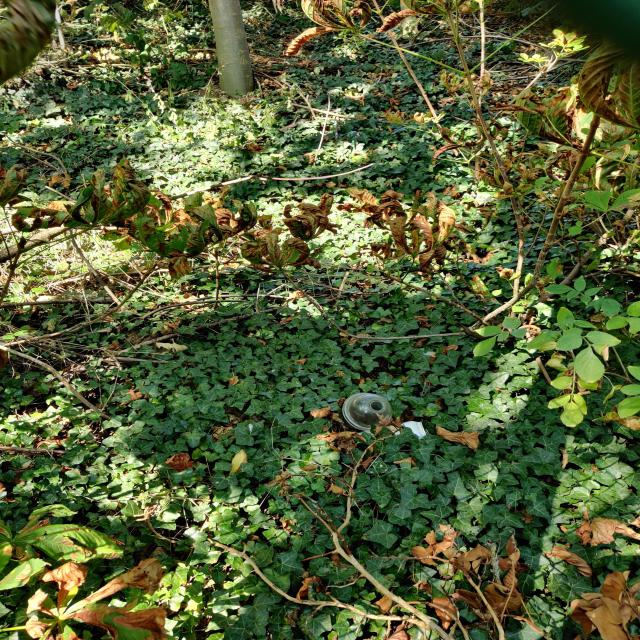litter: (344, 392, 393, 429)
